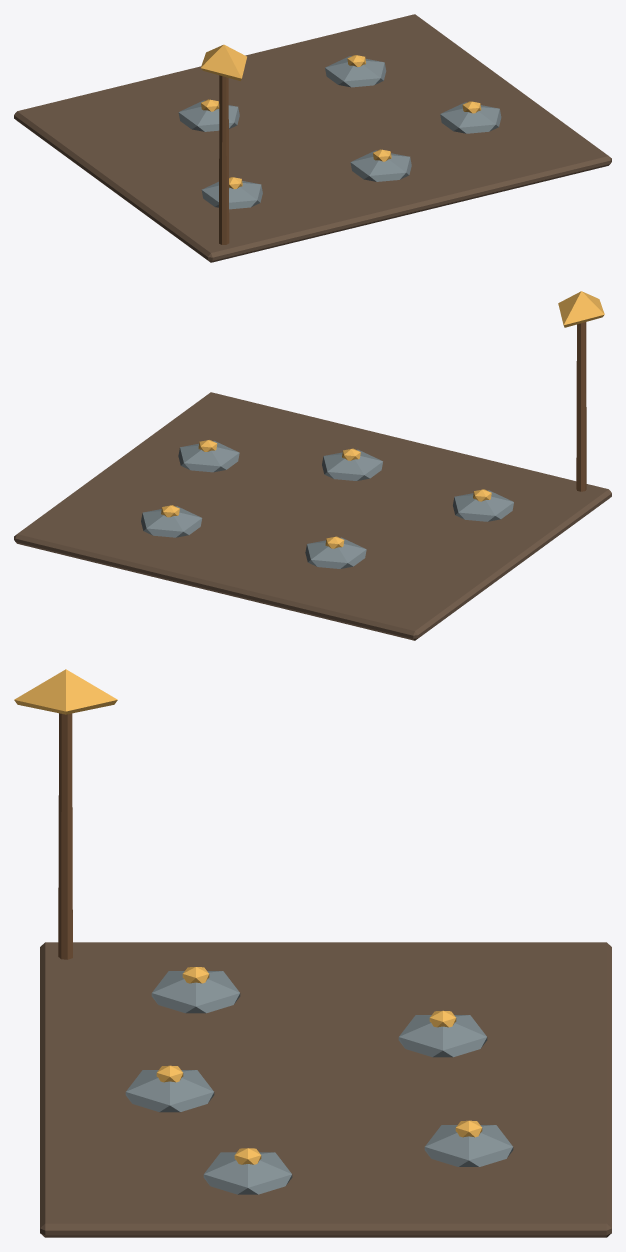
File: CC_MineField.fbx
The picture shows the model from 3 angles, top to bottom: view 1: azimuth 30°, elevation 25°; view 2: azimuth 150°, elevation 25°; view 3: azimuth 270°, elevation 25°; orthographic projection. The views are drawn at different scales.
Visible parts, largest first — view 1: Turned soil, Warning stick, Pod.001, Pod.002, Pod.004, Warning leaf, Pod.003, Pod; view 2: Turned soil, Warning stick, Pod.002, Pod.001, Pod.003, Pod, Pod.004, Warning leaf; view 3: Turned soil, Warning stick, Pod.002, Pod, Pod.003, Pod.001, Pod.004, Warning leaf.
Part boxes in pixels (bbox=[...]): Turned soil: bbox=[14, 14, 611, 262]; Warning stick: bbox=[219, 75, 229, 244]; Pod.001: bbox=[350, 150, 411, 181]; Pod.002: bbox=[440, 102, 501, 133]; Pod.004: bbox=[325, 56, 386, 87]; Warning leaf: bbox=[201, 44, 246, 80]; Pod.003: bbox=[178, 100, 239, 131]; Pod: bbox=[201, 181, 262, 209]; Turned soil: bbox=[14, 392, 611, 640]; Warning stick: bbox=[576, 322, 586, 491]; Pod.002: bbox=[178, 440, 239, 472]; Pod.001: bbox=[322, 449, 382, 480]; Pod.003: bbox=[305, 537, 366, 568]; Pod: bbox=[453, 490, 513, 521]; Pod.004: bbox=[141, 506, 202, 537]; Warning leaf: bbox=[558, 291, 604, 327]; Turned soil: bbox=[40, 942, 611, 1237]; Warning stick: bbox=[58, 713, 72, 959]; Pod.002: bbox=[203, 1152, 292, 1194]; Pod: bbox=[151, 971, 240, 1013]; Pod.003: bbox=[398, 1015, 487, 1057]; Pod.001: bbox=[125, 1070, 214, 1112]; Pod.004: bbox=[424, 1125, 513, 1166]; Warning leaf: bbox=[14, 669, 117, 714].
Size of the model in its own units: 2.6 by 1.33 by 2.3.
